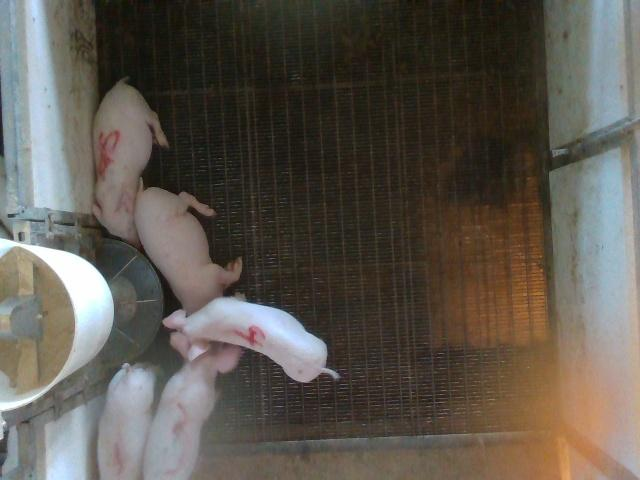pig-1: (99, 364, 156, 479)
pig-3: (144, 342, 241, 478)
pig-4: (164, 298, 336, 382)
pig-5: (92, 78, 169, 247)
